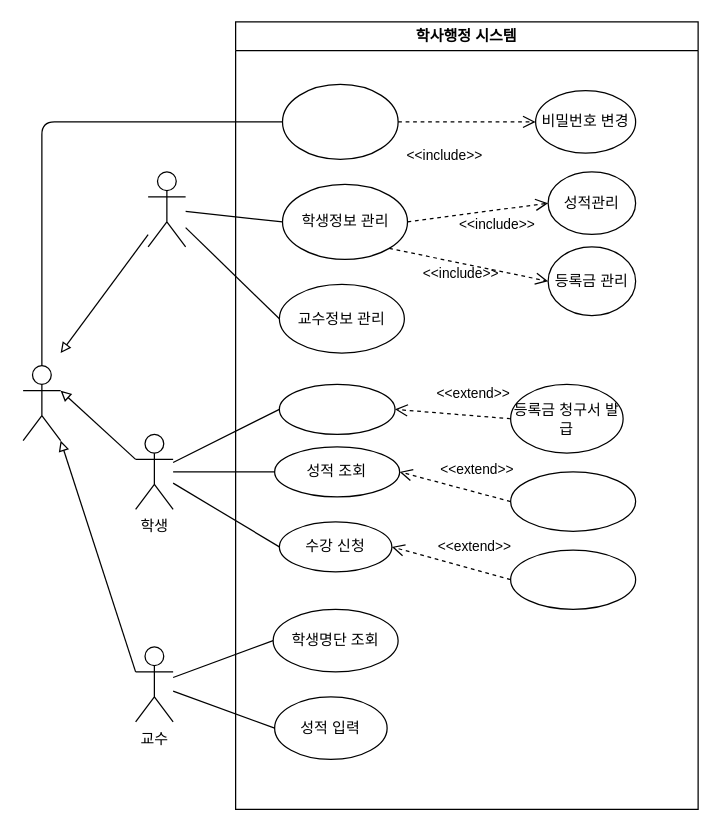
This 720x831 diagram has some shape labels left out. Here are the shapes that lost their labels. From the top down, the centre of each, then its label:
At point (339, 121): "로그인".
At point (166, 209): "행정 관리자".
At point (41, 402): "사용자".
At point (336, 408): "등록금 조회".
At point (572, 501): "성적 증명서 출력".
At point (572, 579): "수강정정".
